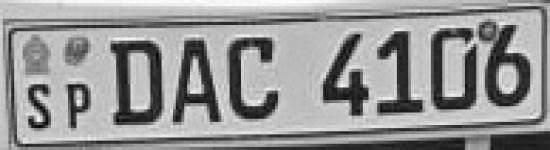0: (428, 22, 482, 118)
1: (373, 26, 426, 120)
4: (319, 26, 373, 125)
6: (485, 19, 537, 112)
A: (169, 34, 225, 130)
C: (226, 28, 285, 128)
D: (104, 32, 170, 132)
P: (58, 80, 93, 134)
S: (21, 81, 57, 132)
